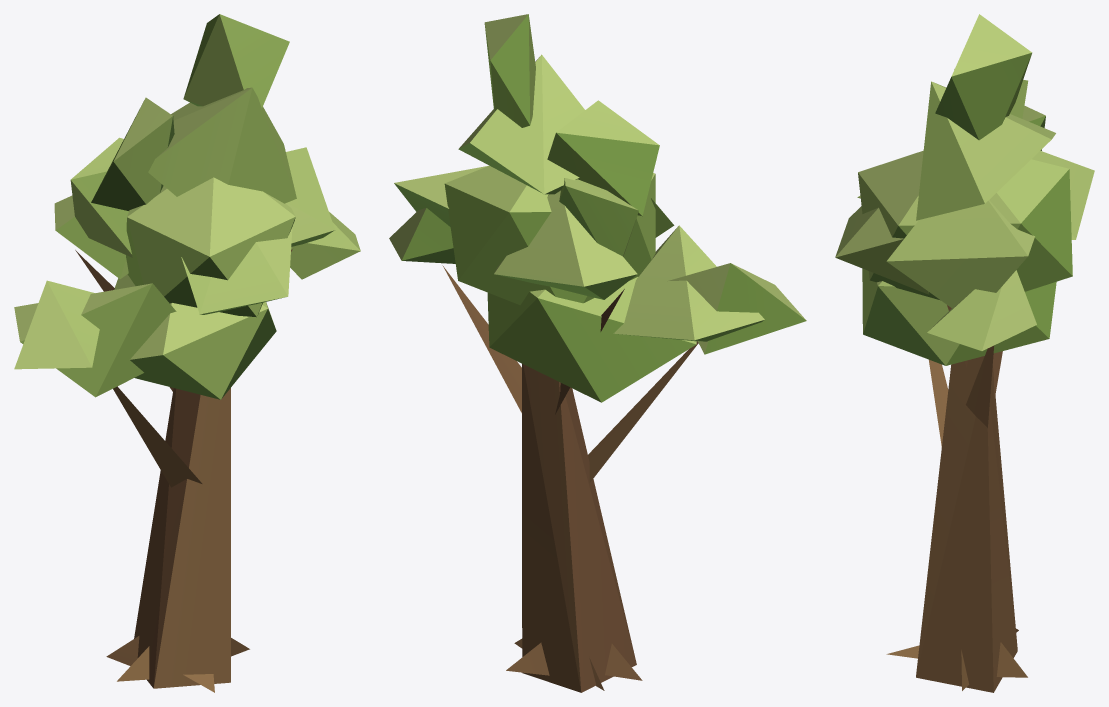
3 renders of one model, left to right at view 1: azimuth 30°, elevation 25°; view 2: azimuth 150°, elevation 25°; view 3: azimuth 270°, elevation 25°, orthographic. The views are drawn at different scales.
Visible parts, largest first — view 1: WK_RegularTree_SunlitLime_LOD2_Compact; view 2: WK_RegularTree_SunlitLime_LOD2_Compact; view 3: WK_RegularTree_SunlitLime_LOD2_Compact.
Part boxes in pixels (left/top/right/bottom): WK_RegularTree_SunlitLime_LOD2_Compact: left=14, top=14, right=360, bottom=692; WK_RegularTree_SunlitLime_LOD2_Compact: left=389, top=14, right=806, bottom=692; WK_RegularTree_SunlitLime_LOD2_Compact: left=835, top=14, right=1094, bottom=692.
Size of the model in its own units: 4.28 by 7.08 by 2.43.
